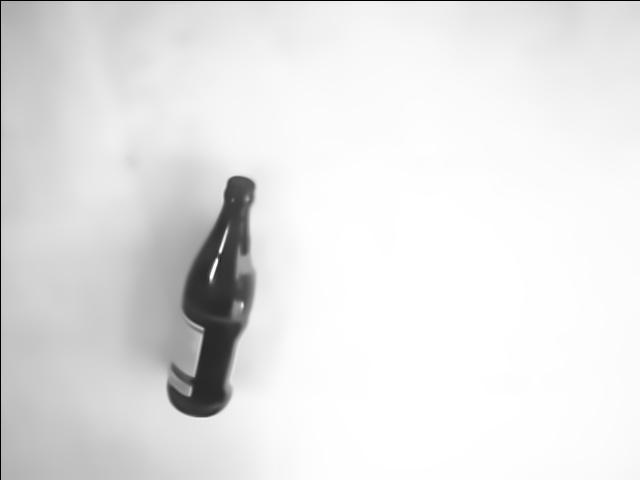Glass: (166, 173, 259, 420)
